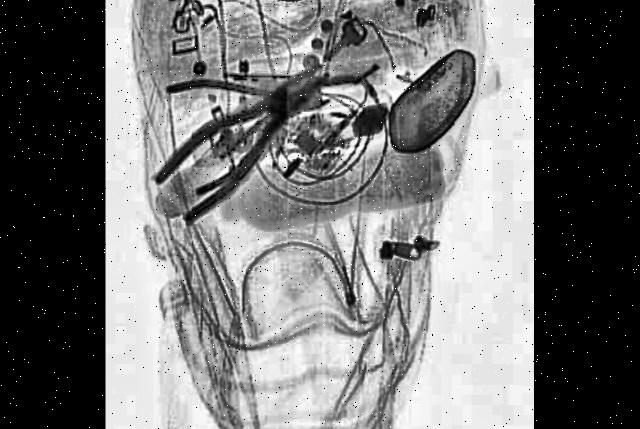Pliers: (148, 35, 334, 241), (164, 10, 332, 202)
